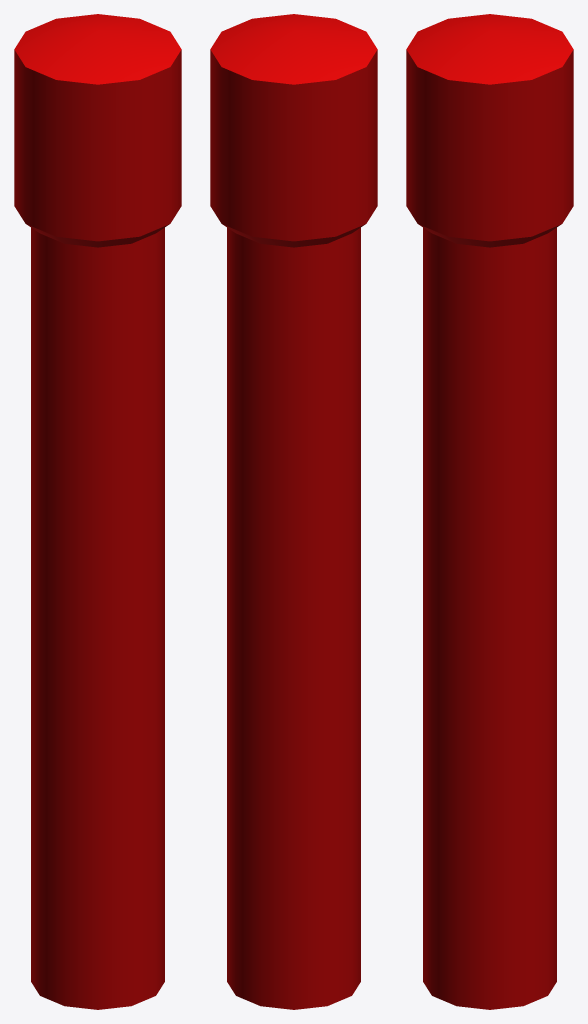
The picture shows the model from 3 angles, left to right: view 1: azimuth 30°, elevation 25°; view 2: azimuth 150°, elevation 25°; view 3: azimuth 270°, elevation 25°; orthographic projection.
Parts seen in each view (by area): view 1: Joint_0_Object_0; view 2: Joint_0_Object_0; view 3: Joint_0_Object_0.
Boxes of the visible parts, left/top/right/bottom form: Joint_0_Object_0: left=14, top=14, right=181, bottom=1009; Joint_0_Object_0: left=210, top=14, right=377, bottom=1009; Joint_0_Object_0: left=406, top=14, right=573, bottom=1009.
Bounding box in the file's own units: 250 × 1565 × 250.
Materials: 1 (1 with a texture image).
